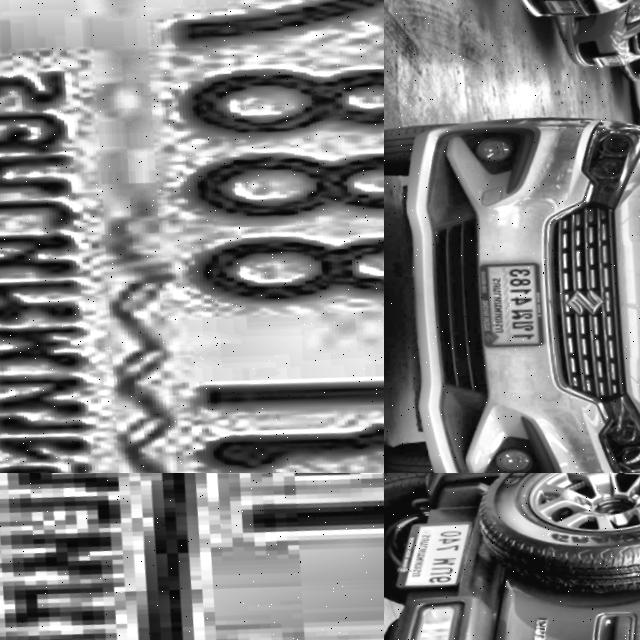license-plate: (0, 0, 384, 473), (0, 473, 384, 640), (385, 510, 485, 596), (477, 252, 557, 348), (537, 0, 587, 15), (594, 44, 625, 65)
